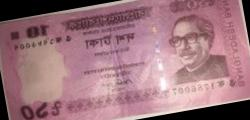10 taka: (0, 22, 247, 113)
